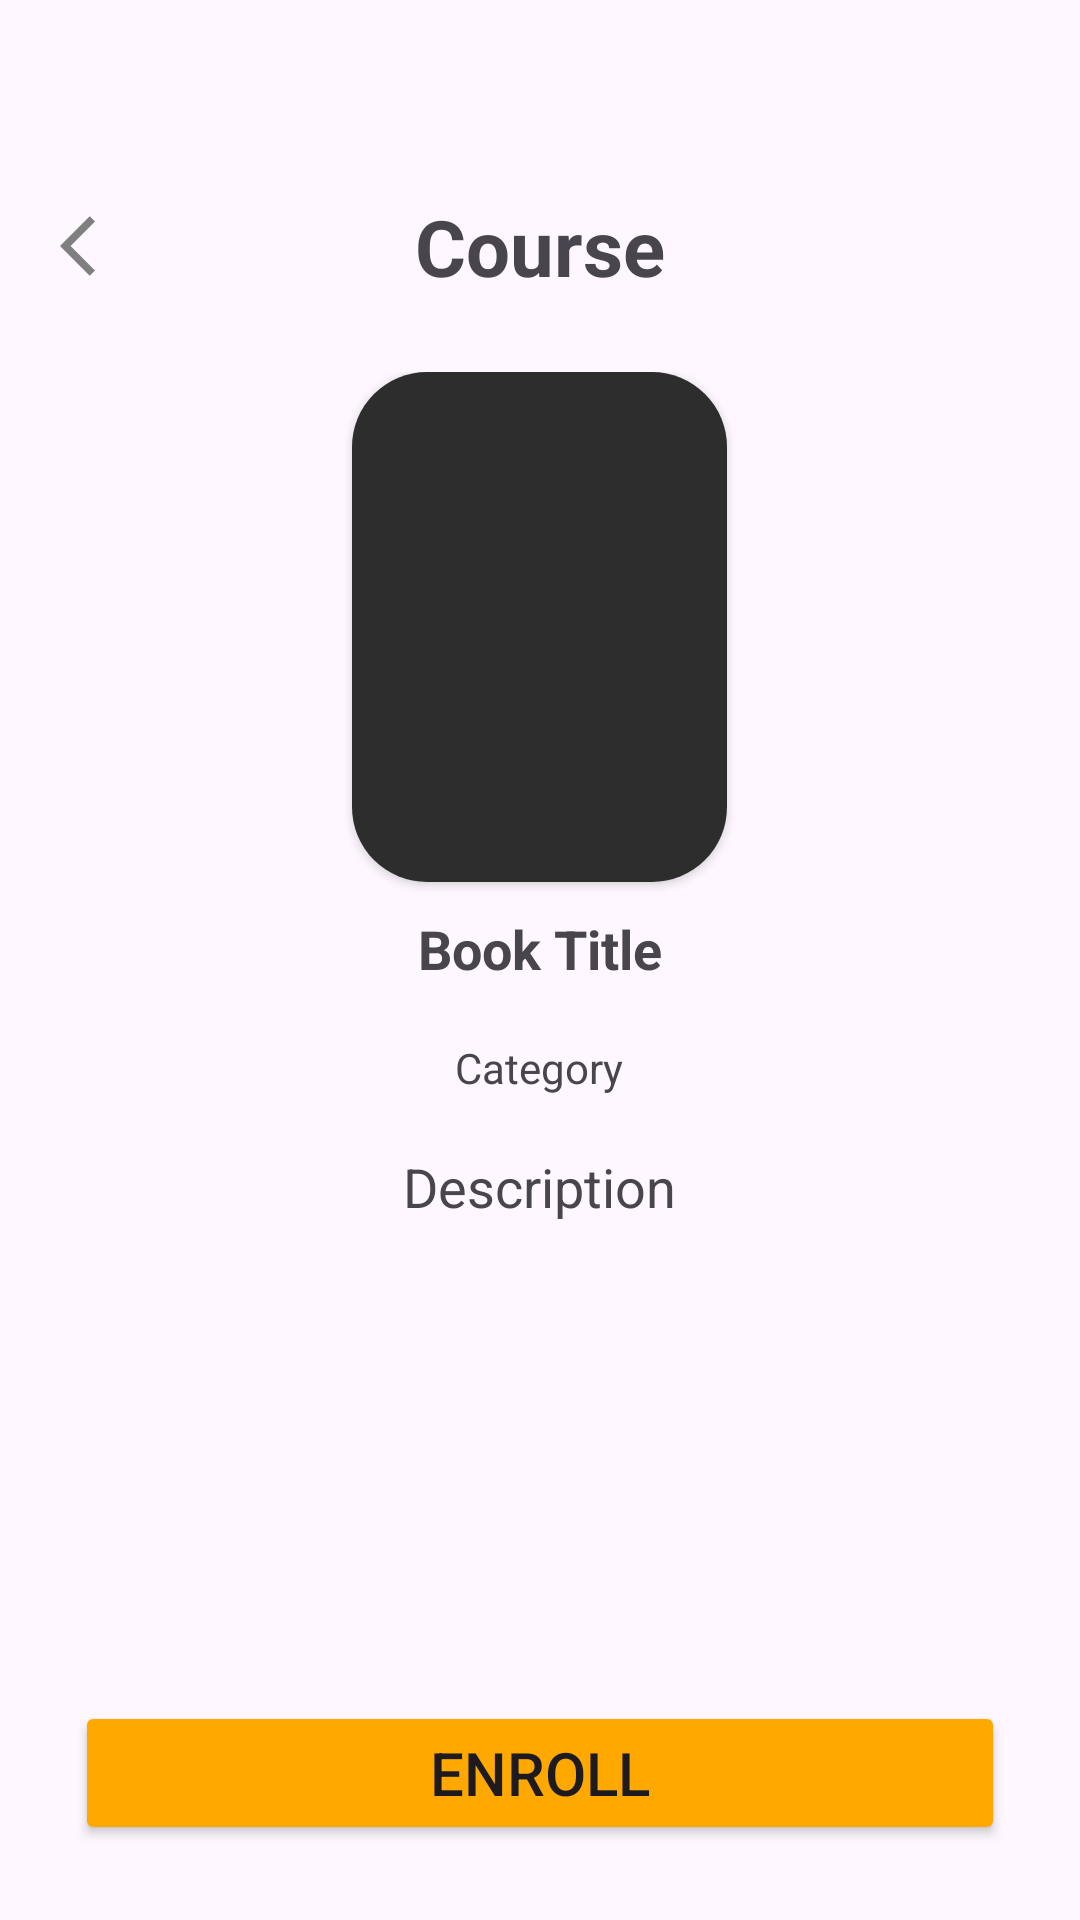

Screen size 1080x1920. Icon name, then its box in pixels as (left=x1, top=y1, right=x2, bottom=y2):
arrow back: (left=60, top=216, right=95, bottom=276)
